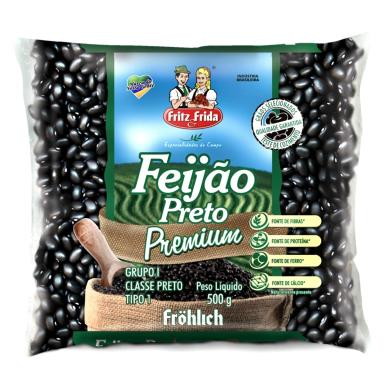beans package: (24, 38, 365, 354)
